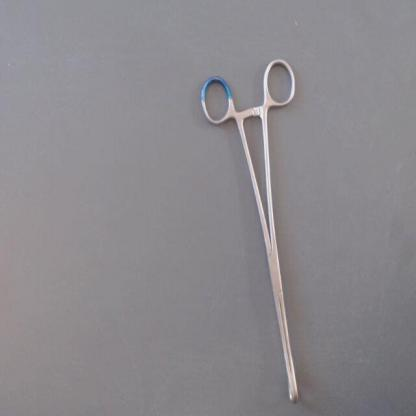Sponge Forceps: (193, 49, 305, 410)
